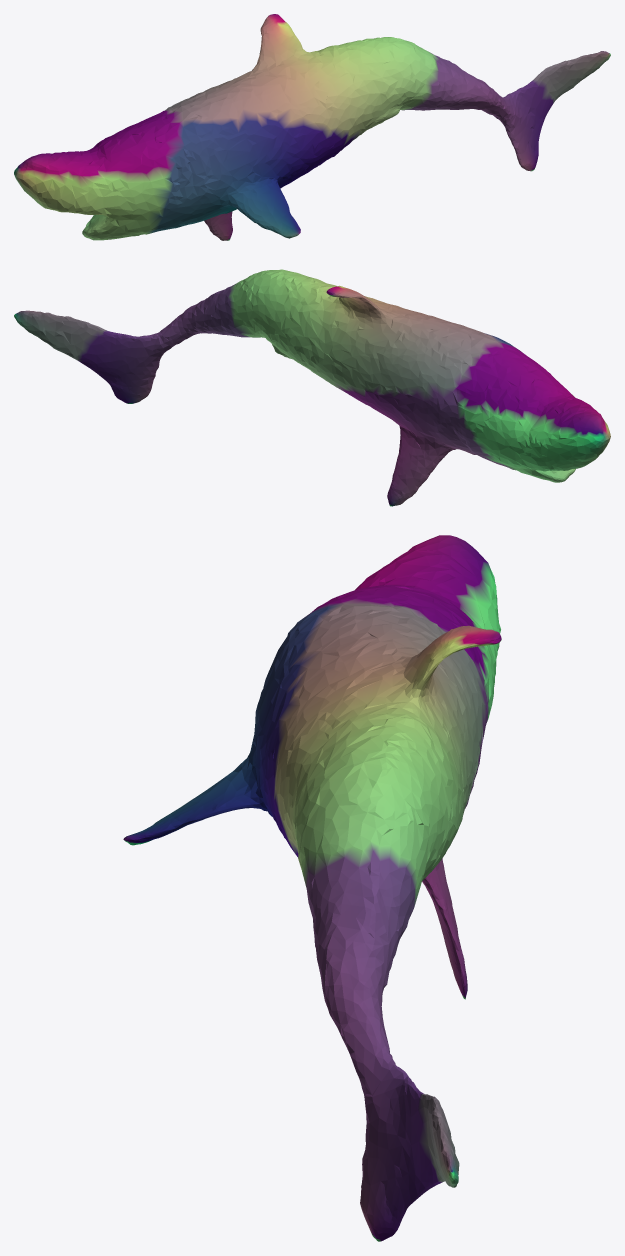
The model's file is shark-5.off.obj.
3 views of the same model, one above another, from view 1: azimuth 30°, elevation 25°; view 2: azimuth 150°, elevation 25°; view 3: azimuth 270°, elevation 25° (orthographic). The views are drawn at different scales.
Size of the model in its own units: 1.45 by 0.4824 by 0.3985.
